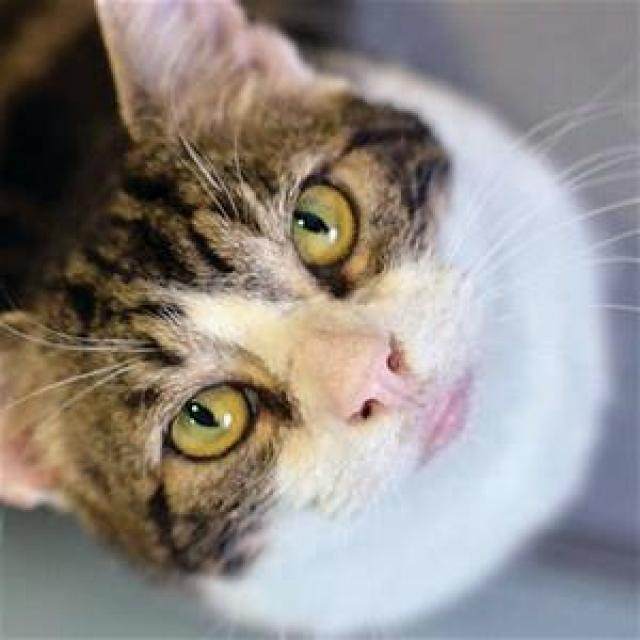KEDI: (0, 0, 618, 631)
